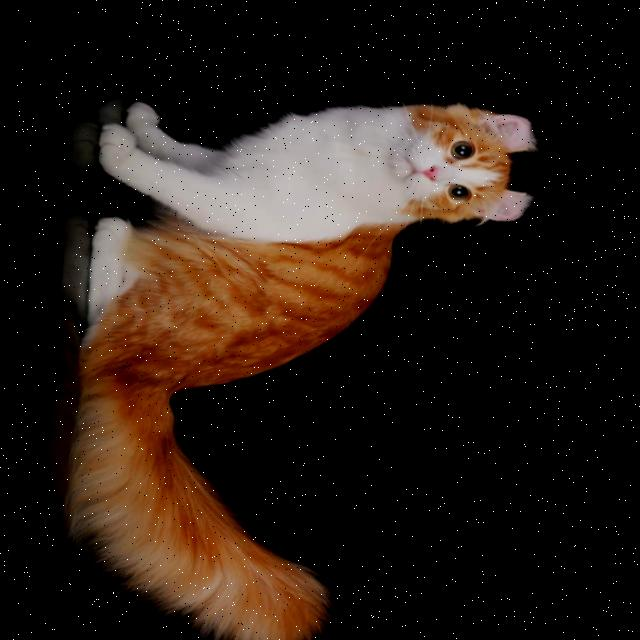American Curl: (46, 52, 549, 640)
